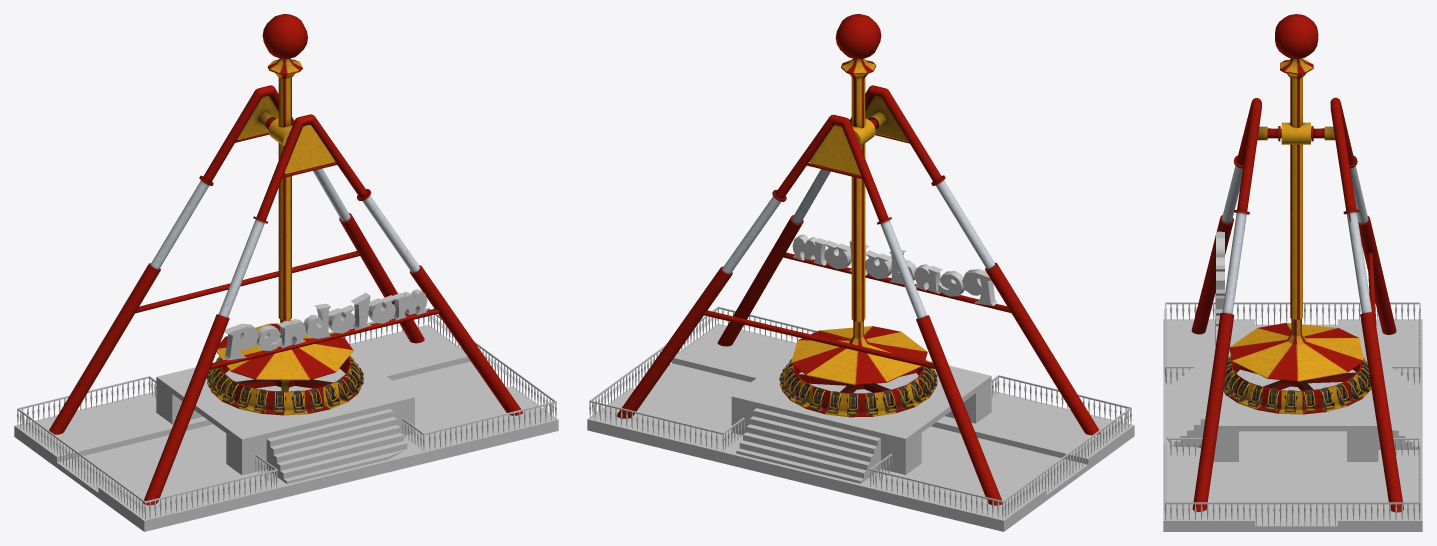
Rendered from Pendulum.fbx.
The picture shows the model from 3 angles, left to right: view 1: azimuth 30°, elevation 25°; view 2: azimuth 150°, elevation 25°; view 3: azimuth 270°, elevation 25°; orthographic projection.
Visible parts, largest first — view 1: Ride4_Base, Supporting_frame1, Spinning_Seats, Pendulum_text, UpperArm; view 2: Ride4_Base, Supporting_frame1, Spinning_Seats, UpperArm, Pendulum_text; view 3: Ride4_Base, Supporting_frame1, Spinning_Seats, UpperArm, Pendulum_text.
Part boxes in pixels (bbox=[...]): Ride4_Base: bbox=[14, 308, 558, 531]; Supporting_frame1: bbox=[49, 85, 522, 505]; Spinning_Seats: bbox=[206, 319, 364, 415]; Pendulum_text: bbox=[223, 289, 427, 360]; UpperArm: bbox=[262, 14, 307, 320]; Ride4_Base: bbox=[587, 306, 1134, 531]; Supporting_frame1: bbox=[617, 85, 1099, 505]; Spinning_Seats: bbox=[779, 321, 937, 417]; UpperArm: bbox=[835, 14, 881, 321]; Pendulum_text: bbox=[792, 234, 997, 305]; Ride4_Base: bbox=[1163, 302, 1422, 531]; Supporting_frame1: bbox=[1191, 97, 1403, 512]; Spinning_Seats: bbox=[1223, 318, 1371, 414]; UpperArm: bbox=[1275, 14, 1318, 319]; Pendulum_text: bbox=[1216, 231, 1224, 343].
Size of the model in its own units: 42.4 by 40.76 by 23.04.
